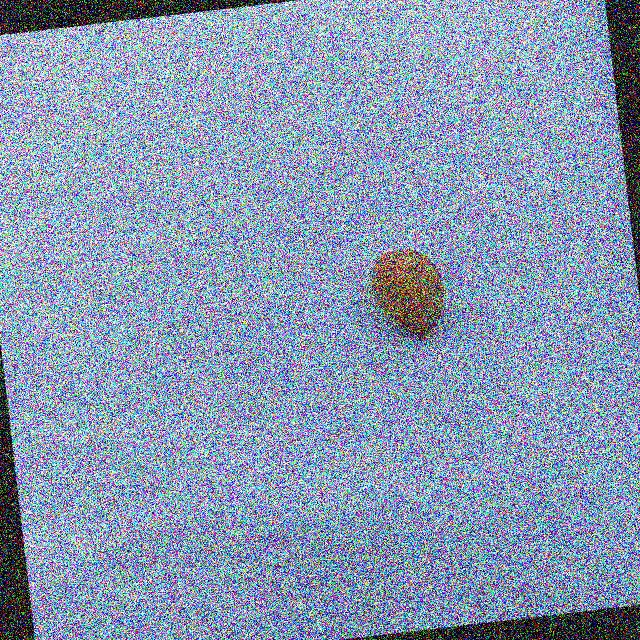grade2: (362, 242, 452, 347)
